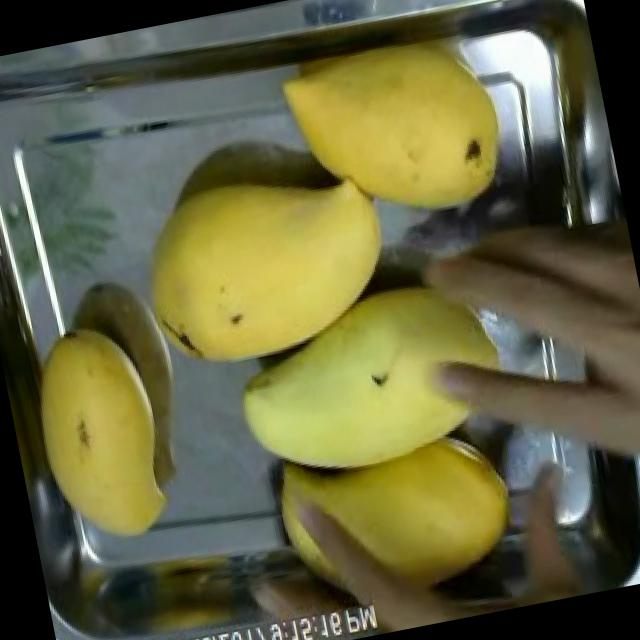fruit: (205, 237, 532, 533), (242, 373, 554, 640), (120, 143, 420, 394), (255, 4, 532, 254), (9, 303, 192, 562)
